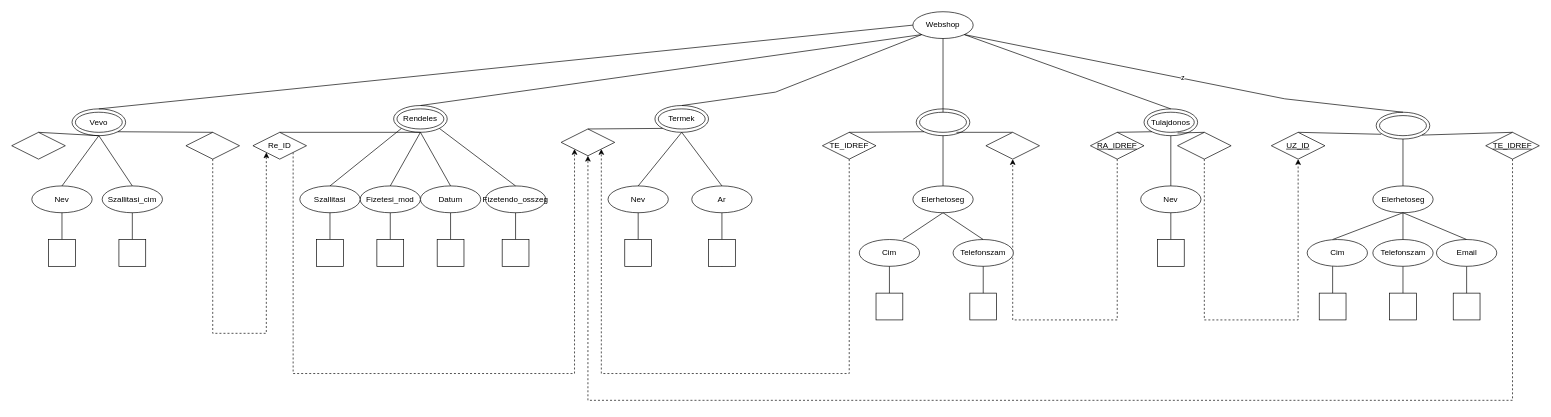
Some shapes in this 1551 by 417 pixel diagram are drawn without their labels. The centre of each missing label's shape, as x and y in pixels:
"RA_ID" belongs at point 1012,145.
"Raktar" belongs at point 942,122.
"Re_IDREF" belongs at point 212,145.
"Te_iD" belongs at point 587,142.
"UZ_IDREF" belongs at point 1204,145.
"Uzlet" belongs at point 1402,125.
"Ve_ID" belongs at point 38,145.
